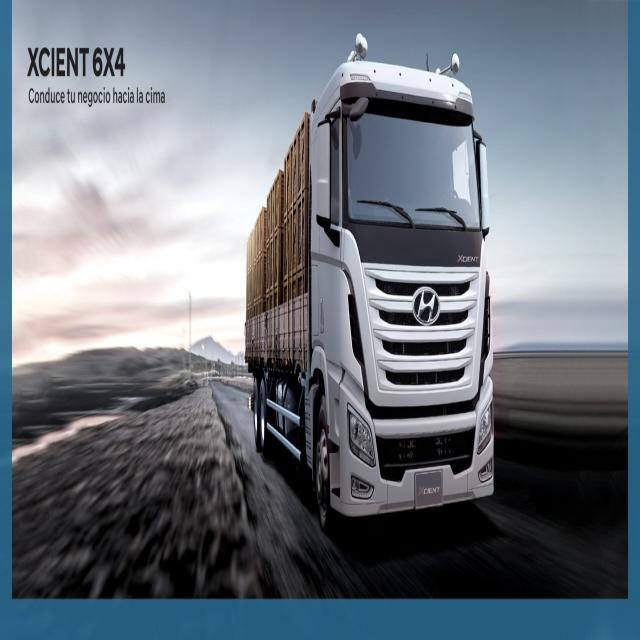TRUCK: (245, 36, 494, 527)
